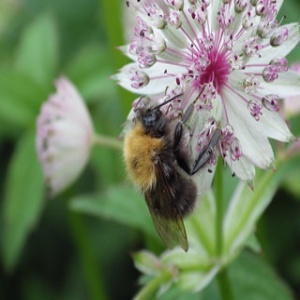bee: (124, 101, 195, 254)
